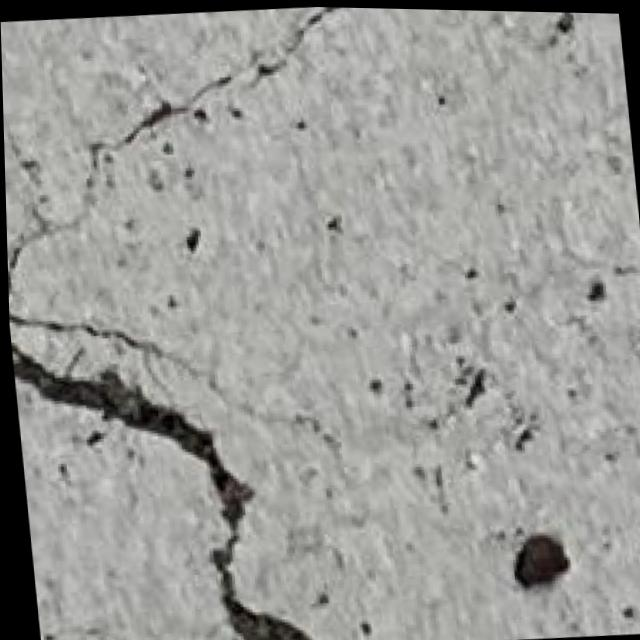Crack: (4, 187, 368, 640)
